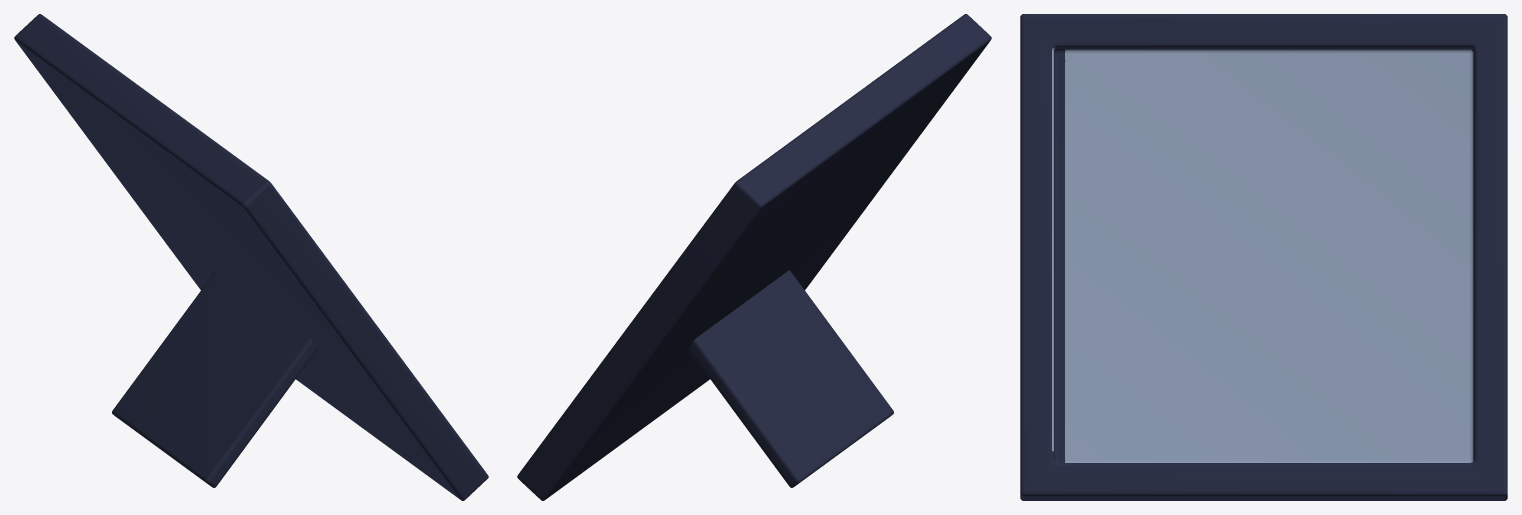
Rendered from picture.glb.
3 views of the same model, side by side, from view 1: azimuth 30°, elevation 25°; view 2: azimuth 150°, elevation 25°; view 3: azimuth 270°, elevation 25° (orthographic). The views are drawn at different scales.
Parts seen in each view (by area): view 1: Picture; view 2: Picture; view 3: Picture.
Part boxes in pixels (box(x1,y1,x2,y2)): Picture: box(14, 14, 488, 500); Picture: box(517, 14, 991, 500); Picture: box(1020, 14, 1507, 500).
Size of the model in its own units: 0.1493 by 0.2133 by 0.2438.
1 material, 1 textured.
